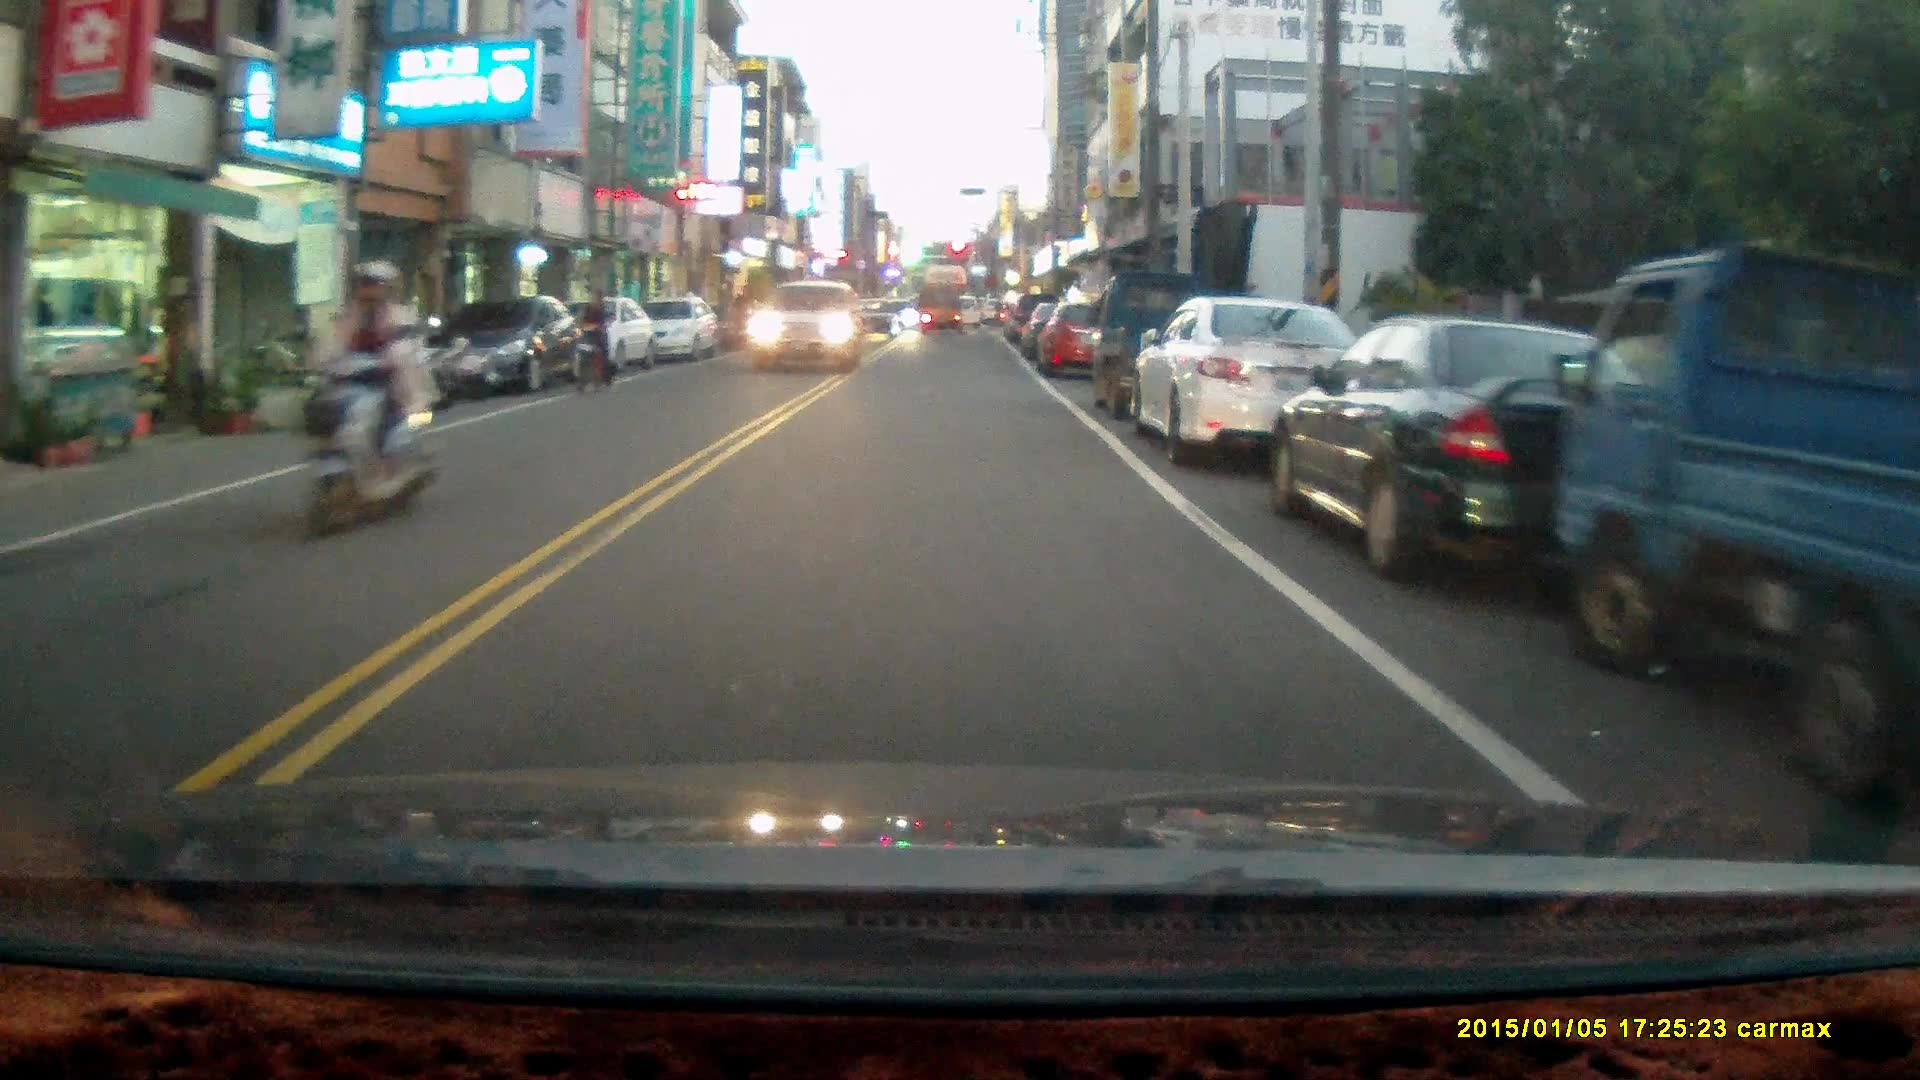rider: (300, 257, 443, 538), (569, 287, 613, 394)
vehicle: (1555, 246, 1920, 782), (1265, 316, 1718, 585), (1130, 294, 1373, 467), (1088, 263, 1256, 434), (440, 299, 586, 399), (747, 279, 865, 370), (1033, 302, 1130, 380), (631, 296, 722, 364), (846, 297, 905, 344), (916, 283, 963, 336)
